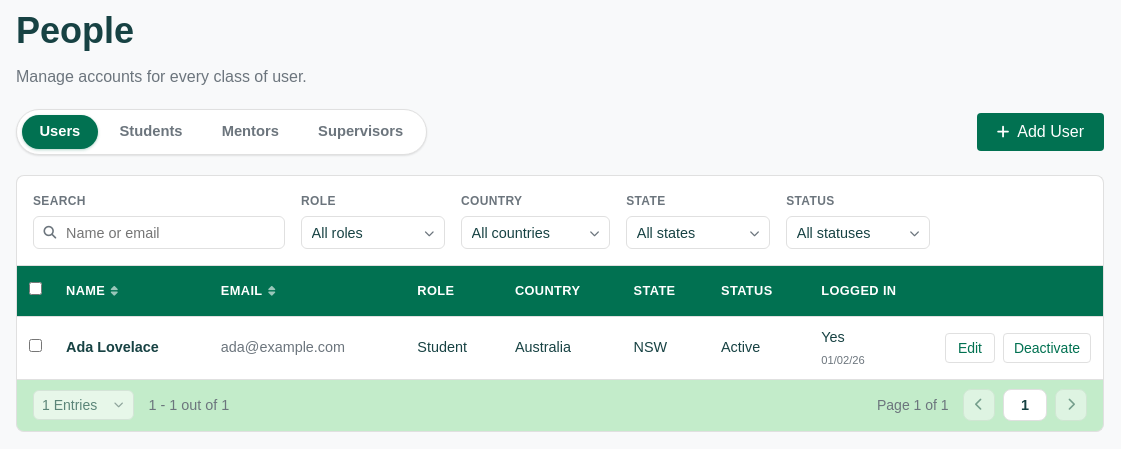
Test case: AdminPeoplePage › switches to the Supervisors tab
Click the tab "Supervisors" at (361, 132), box [300,115,421,149]
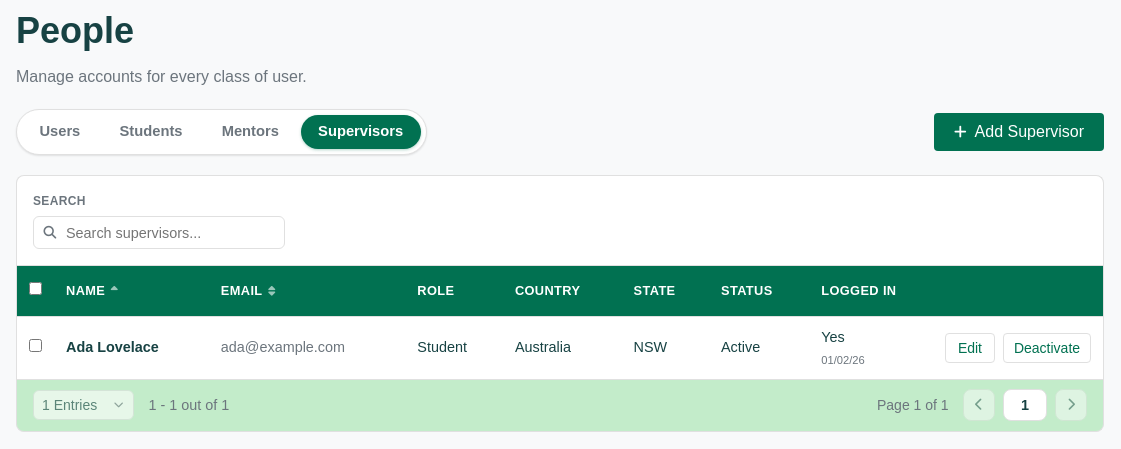
Check: the text "Ada Lovelace" is shown, box [66,336,159,359]
Check: the text "Add Supervisor" is shown, box [975,123,1084,141]
